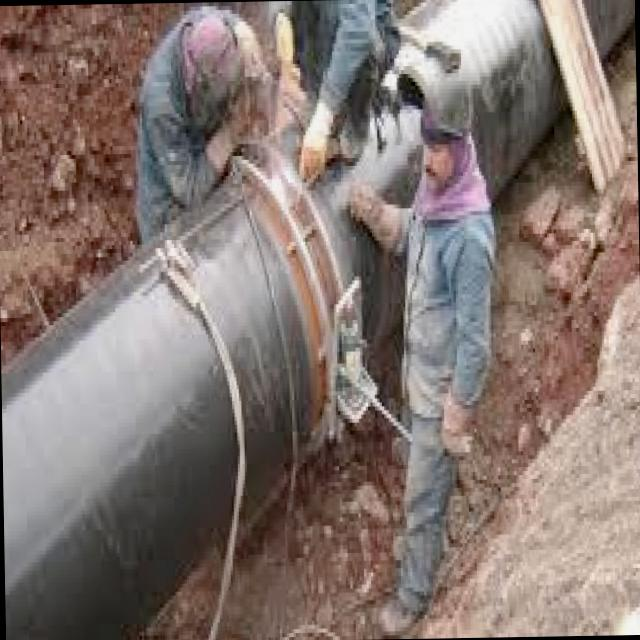gas: (1, 239, 238, 640), (169, 142, 357, 519)
